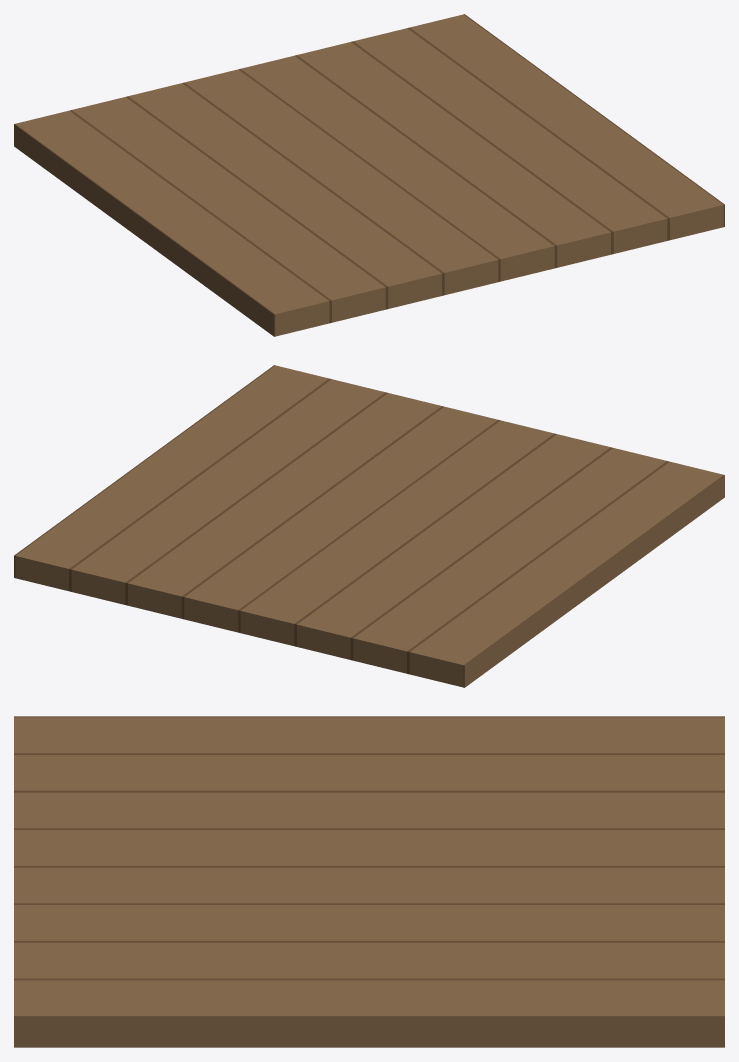
The model's file is Floor_10_dra.glb.
The picture shows the model from 3 angles, top to bottom: view 1: azimuth 30°, elevation 25°; view 2: azimuth 150°, elevation 25°; view 3: azimuth 270°, elevation 25°; orthographic projection. The views are drawn at different scales.
Visible parts, largest first — view 1: Floor; view 2: Floor; view 3: Floor.
Part boxes in pixels (x1,y1,x2,y2): Floor: (14, 14, 724, 336); Floor: (14, 365, 724, 687); Floor: (14, 716, 724, 1047).
Bounding box in the file's own units: 2.5 × 0.1185 × 2.5.
Materials: 1 (1 with a texture image).
